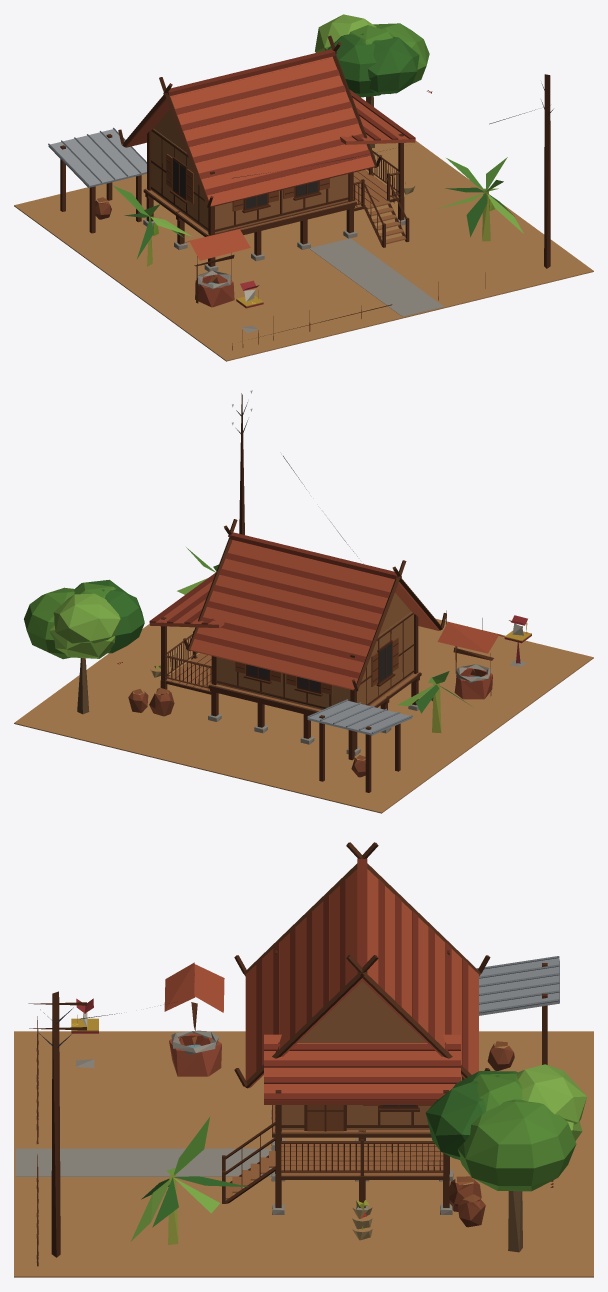
The model's file is home_1.glb.
3 renders of one model, top to bottom at view 1: azimuth 30°, elevation 25°; view 2: azimuth 150°, elevation 25°; view 3: azimuth 270°, elevation 25°, orthographic. The views are drawn at different scales.
Parts seen in each view (by area): view 1: body, windows; view 2: body, windows; view 3: body.
Boxes of the visible parts, x1,y1,x2,y2 form: body: (14,14,593,361); windows: (173,159,317,208); body: (14,390,593,813); windows: (247,643,391,691); body: (14,842,593,1277).
Bounding box in the file's own units: 16.43 × 8.05 × 15.9.
